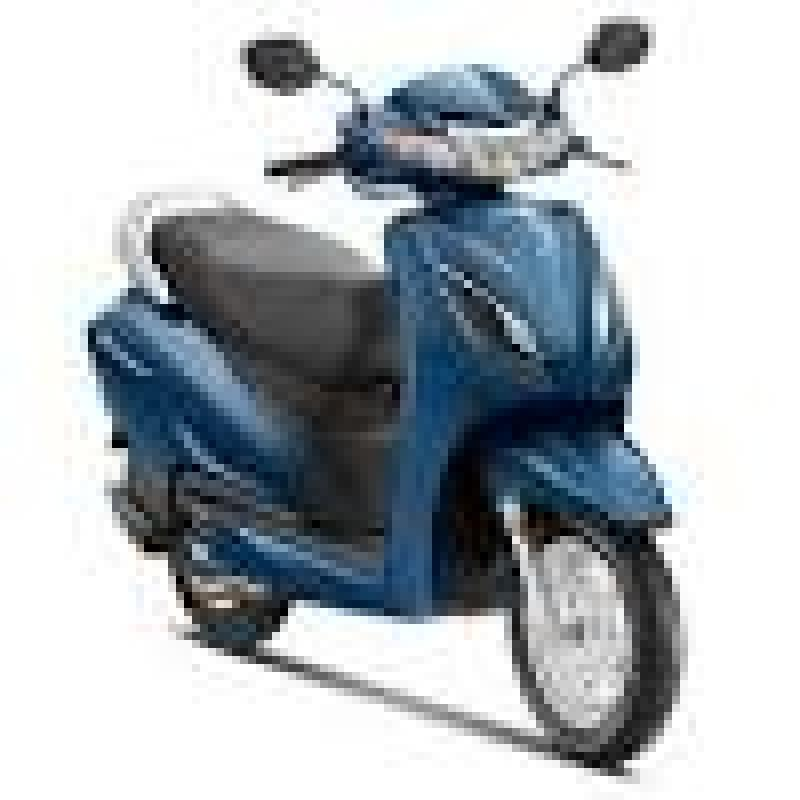bike: (32, 0, 712, 768)
